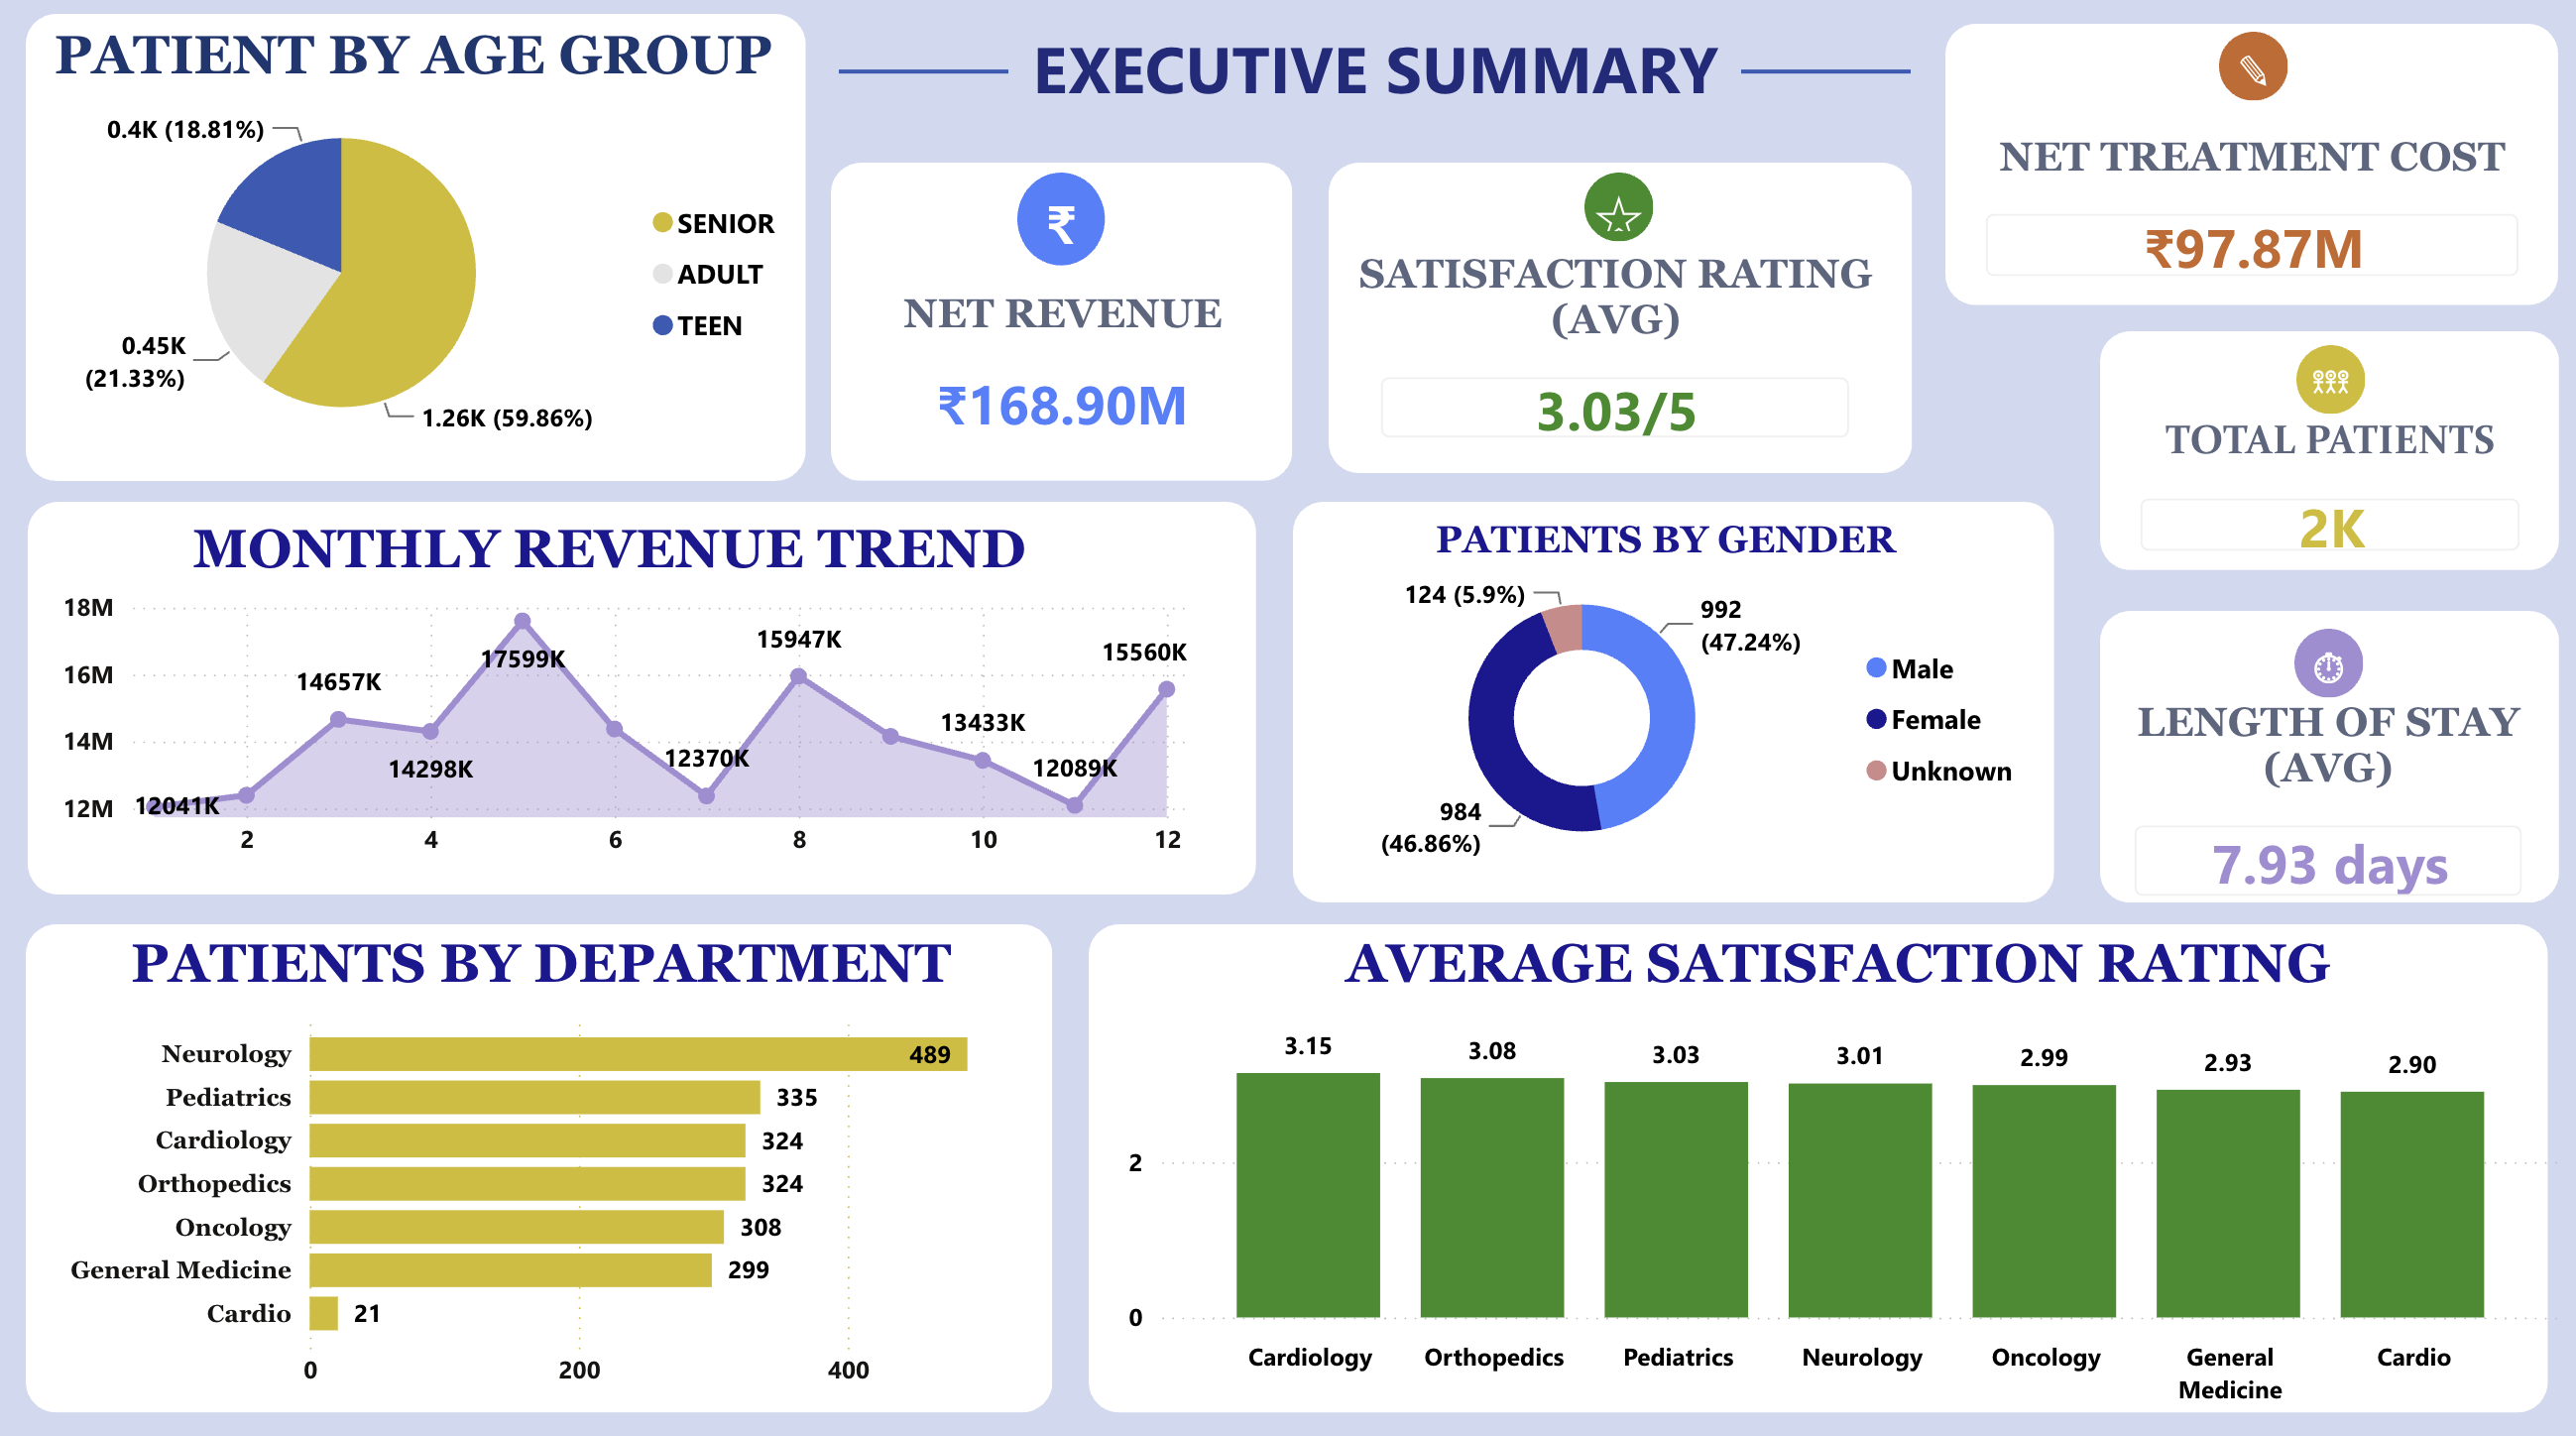

The dashboard page shown, as its layout file describes it:
{"tool":"powerbi","page":{"name":"Page 1","canvas":[1280,720],"ordinal":0},"visuals":[{"type":"shape","title":"rev back","box":[965.9,15.8,303.6,139.3],"z":0},{"type":"shape","title":"rev back","box":[1042.1,168.2,227.4,118.3],"z":1000},{"type":"shape","title":"rev back","box":[1042.1,306.2,227.4,144.6],"z":2000},{"type":"shape","title":"rev back","box":[659.7,84.1,289.1,153.8],"z":3000},{"type":"shape","title":"rev back","box":[642.6,252.3,377.2,198.4],"z":4000},{"type":"shape","title":"rev back","box":[15.8,252.3,608.5,194.5],"z":5000},{"type":"shape","title":"rev back","box":[14.5,461.3,508.6,241.8],"z":6000},{"type":"shape","title":"rev back","box":[541.4,461.3,722.8,241.8],"z":7000},{"type":"cardVisual","title":"TOTAL PATIENTS","fields":{"Data":["CountNonNull(sql_hospital.Patient_ID)"]},"box":[1044.8,209,222.1,85.4],"z":8000},{"type":"cardVisual","title":"SATISFACTION RATING (AVG)","fields":{"Data":["Avg(sql_hospital.Satisfaction_Rating)"]},"box":[668.9,127.5,266.8,110.4],"z":9000},{"type":"cardVisual","title":"NET TREATMENT COST","fields":{"Data":["Sum(sql_hospital.Treatment_Cost)"]},"box":[968.5,69.7,298.3,88],"z":10000},{"type":"cardVisual","title":"LENGTH OF STAY (AVG)","fields":{"Data":["Avg(sql_hospital.Length_of_Stay)"]},"box":[1042.1,349.6,226,115.6],"z":11000},{"type":"lineChart","title":"MONTHLY REVENUE  TREND","fields":{"Category":["sql_hospital.month_number"],"Y":["Sum(sql_hospital.Total_Bill)"]},"box":[13.1,260.2,582.2,177.4],"z":12000},{"type":"barChart","title":"PATIENTS BY DEPARTMENT","fields":{"Category":["sql_hospital.Department"],"Y":["CountNonNull(sql_hospital.Patient_ID)"]},"box":[15.8,465.2,508.6,241.8],"z":13000},{"type":"clusteredColumnChart","title":"AVERAGE SATISFACTION RATING","fields":{"Category":["sql_hospital.Department"],"Y":["Avg(sql_hospital.Satisfaction_Rating)"]},"box":[549.3,465.2,726.7,241.8],"z":14000},{"type":"shape","title":"rev back","box":[414,84.1,228.7,157.7],"z":15000},{"type":"shape","title":"netrev icon","box":[506,89.4,43.4,46],"z":16000},{"type":"cardVisual","title":"NET REVENUE","fields":{"Data":["Sum(sql_hospital.Total_Bill)"]},"box":[433.7,147.2,190.6,90.7],"z":17000},{"type":"textbox","box":[502,10.5,362.7,56.5],"z":18000},{"type":"shape","title":"rev back","box":[14.5,10.5,386.4,231.3],"z":19000},{"type":"donutChart","title":"PATIENTS BY GENDER","fields":{"Category":["sql_hospital.Gender"],"Y":["CountNonNull(sql_hospital.Gender)"]},"box":[640,260.2,373.2,177.4],"z":20000},{"type":"pieChart","title":"PATIENT BY AGE GROUP","fields":{"Category":["sql_hospital.age_group"],"Y":["CountNonNull(sql_hospital.age_group)"]},"box":[13.1,10.5,387.7,220.8],"z":21000},{"type":"shape","box":[417.9,19.7,84.1,39.4],"z":22000},{"type":"shape","box":[864.7,19.7,84.1,39.4],"z":23000},{"type":"shape","box":[787.2,89.4,34.2,34.2],"z":24000},{"type":"shape","box":[1101.3,19.7,34.2,34.2],"z":25000},{"type":"shape","box":[1138.1,315.4,34.2,34.2],"z":27000},{"type":"shape","box":[1139.4,174.8,34.2,34.2],"z":28000}]}

Visuals, with their boxes in screenshot pixels (x1, y1, x2, y2), scaled from the page's 1280x720 canvas onto the 2576x1436 screenshot:
"rev back" shape: <bbox>1943, 32, 2555, 309</bbox>
"rev back" shape: <bbox>2097, 335, 2555, 571</bbox>
"rev back" shape: <bbox>2097, 611, 2555, 899</bbox>
"rev back" shape: <bbox>1328, 168, 1910, 474</bbox>
"rev back" shape: <bbox>1293, 503, 2052, 898</bbox>
"rev back" shape: <bbox>32, 503, 1256, 892</bbox>
"rev back" shape: <bbox>29, 920, 1053, 1402</bbox>
"rev back" shape: <bbox>1090, 920, 2544, 1402</bbox>
"TOTAL PATIENTS" cardVisual: <bbox>2103, 417, 2549, 587</bbox>
"SATISFACTION RATING (AVG)" cardVisual: <bbox>1347, 254, 1883, 474</bbox>
"NET TREATMENT COST" cardVisual: <bbox>1949, 139, 2549, 314</bbox>
"LENGTH OF STAY (AVG)" cardVisual: <bbox>2097, 697, 2552, 928</bbox>
"MONTHLY REVENUE  TREND" lineChart: <bbox>27, 519, 1198, 873</bbox>
"PATIENTS BY DEPARTMENT" barChart: <bbox>32, 928, 1055, 1410</bbox>
"AVERAGE SATISFACTION RATING" clusteredColumnChart: <bbox>1106, 928, 2568, 1410</bbox>
"rev back" shape: <bbox>833, 168, 1293, 482</bbox>
"netrev icon" shape: <bbox>1018, 179, 1106, 270</bbox>
"NET REVENUE" cardVisual: <bbox>873, 294, 1256, 474</bbox>
textbox: <bbox>1010, 21, 1740, 134</bbox>
"rev back" shape: <bbox>29, 21, 807, 482</bbox>
"PATIENTS BY GENDER" donutChart: <bbox>1288, 519, 2039, 873</bbox>
"PATIENT BY AGE GROUP" pieChart: <bbox>27, 21, 806, 461</bbox>
shape: <bbox>841, 40, 1010, 118</bbox>
shape: <bbox>1740, 40, 1910, 118</bbox>
shape: <bbox>1584, 179, 1653, 247</bbox>
shape: <bbox>2216, 40, 2285, 107</bbox>
shape: <bbox>2290, 629, 2359, 697</bbox>
shape: <bbox>2293, 349, 2362, 417</bbox>
